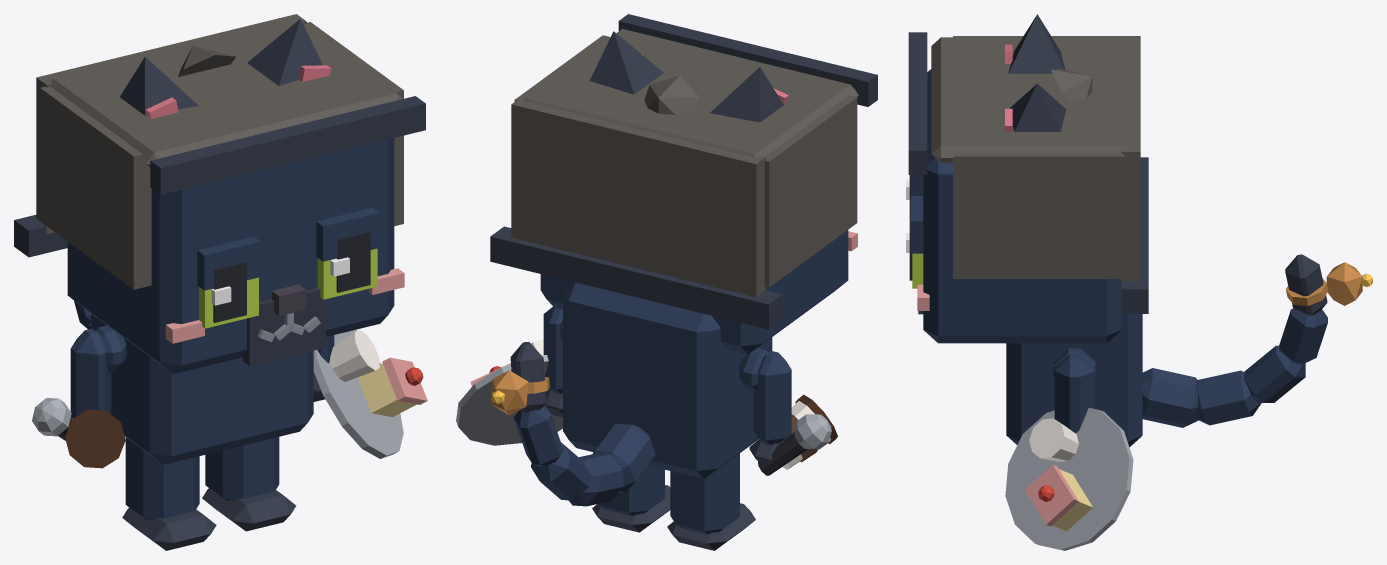
Rendered from CatCafe_Cat_Rogue_Work.glb.
The picture shows the model from 3 angles, left to right: view 1: azimuth 30°, elevation 25°; view 2: azimuth 150°, elevation 25°; view 3: azimuth 270°, elevation 25°; orthographic projection. The views are drawn at different scales.
Visible parts, largest first — view 1: CatCafe_Cat_Rogue_Work_Prop, CatCafe_Cat_Rogue_Work_Head, CatCafe_Cat_Rogue_Work_Body, CatCafe_Cat_Rogue_Work_Held_Waiter, CatCafe_Cat_Rogue_Work_LegB2, CatCafe_Cat_Rogue_Work_LegB1, CatCafe_Cat_Rogue_Work_Eye1, CatCafe_Cat_Rogue_Work_Eye2, CatCafe_Cat_Rogue_Work_LegF2, CatCafe_Cat_Rogue_Work_EarL, CatCafe_Cat_Rogue_Work_Held_Barista, CatCafe_Cat_Rogue_Work_EarR (+1 smaller); view 2: CatCafe_Cat_Rogue_Work_Prop, CatCafe_Cat_Rogue_Work_Body, CatCafe_Cat_Rogue_Work_Tail, CatCafe_Cat_Rogue_Work_Head, CatCafe_Cat_Rogue_Work_LegB2, CatCafe_Cat_Rogue_Work_LegF2, CatCafe_Cat_Rogue_Work_Held_Waiter, CatCafe_Cat_Rogue_Work_LegB1, CatCafe_Cat_Rogue_Work_EarL, CatCafe_Cat_Rogue_Work_EarR, CatCafe_Cat_Rogue_Work_Held_Entertainer, CatCafe_Cat_Rogue_Work_LegF1 (+2 smaller); view 3: CatCafe_Cat_Rogue_Work_Prop, CatCafe_Cat_Rogue_Work_Head, CatCafe_Cat_Rogue_Work_Held_Waiter, CatCafe_Cat_Rogue_Work_Tail, CatCafe_Cat_Rogue_Work_Body, CatCafe_Cat_Rogue_Work_LegF1, CatCafe_Cat_Rogue_Work_EarR, CatCafe_Cat_Rogue_Work_EarL, CatCafe_Cat_Rogue_Work_Tail_Pouch, CatCafe_Cat_Rogue_Work_Eye1.
Part boxes in pixels (bbox=[...]): CatCafe_Cat_Rogue_Work_Prop: bbox=[14, 14, 425, 289]; CatCafe_Cat_Rogue_Work_Head: bbox=[67, 138, 404, 373]; CatCafe_Cat_Rogue_Work_Body: bbox=[91, 314, 313, 464]; CatCafe_Cat_Rogue_Work_Held_Waiter: bbox=[313, 329, 427, 458]; CatCafe_Cat_Rogue_Work_LegB2: bbox=[122, 437, 216, 550]; CatCafe_Cat_Rogue_Work_LegB1: bbox=[202, 437, 296, 531]; CatCafe_Cat_Rogue_Work_Eye1: bbox=[316, 207, 379, 299]; CatCafe_Cat_Rogue_Work_Eye2: bbox=[197, 236, 260, 328]; CatCafe_Cat_Rogue_Work_LegF2: bbox=[70, 328, 111, 418]; CatCafe_Cat_Rogue_Work_EarL: bbox=[247, 19, 331, 85]; CatCafe_Cat_Rogue_Work_Held_Barista: bbox=[65, 409, 125, 468]; CatCafe_Cat_Rogue_Work_EarR: bbox=[120, 56, 197, 118]; CatCafe_Cat_Rogue_Work_Prop: bbox=[490, 14, 877, 329]; CatCafe_Cat_Rogue_Work_Body: bbox=[560, 282, 772, 479]; CatCafe_Cat_Rogue_Work_Tail: bbox=[510, 342, 655, 506]; CatCafe_Cat_Rogue_Work_Head: bbox=[540, 230, 857, 354]; CatCafe_Cat_Rogue_Work_LegB2: bbox=[667, 453, 755, 550]; CatCafe_Cat_Rogue_Work_LegF2: bbox=[749, 351, 791, 461]; CatCafe_Cat_Rogue_Work_Held_Waiter: bbox=[456, 339, 562, 445]; CatCafe_Cat_Rogue_Work_LegB1: bbox=[592, 465, 670, 532]; CatCafe_Cat_Rogue_Work_EarL: bbox=[589, 31, 663, 94]; CatCafe_Cat_Rogue_Work_EarR: bbox=[710, 67, 788, 122]; CatCafe_Cat_Rogue_Work_Held_Entertainer: bbox=[758, 414, 831, 475]; CatCafe_Cat_Rogue_Work_LegF1: bbox=[543, 306, 562, 417]; CatCafe_Cat_Rogue_Work_Prop: bbox=[908, 32, 1148, 313]; CatCafe_Cat_Rogue_Work_Head: bbox=[917, 69, 1121, 343]; CatCafe_Cat_Rogue_Work_Held_Waiter: bbox=[1005, 408, 1133, 550]; CatCafe_Cat_Rogue_Work_Tail: bbox=[1142, 254, 1327, 427]; CatCafe_Cat_Rogue_Work_Body: bbox=[1006, 314, 1142, 447]; CatCafe_Cat_Rogue_Work_LegF1: bbox=[1054, 354, 1094, 433]; CatCafe_Cat_Rogue_Work_EarR: bbox=[1005, 14, 1065, 73]; CatCafe_Cat_Rogue_Work_EarL: bbox=[1005, 83, 1066, 131]; CatCafe_Cat_Rogue_Work_Tail_Pouch: bbox=[1286, 262, 1372, 305]; CatCafe_Cat_Rogue_Work_Eye1: bbox=[906, 196, 923, 288].
Bounding box in the file's own units: 1.53 × 1.93 × 1.79.
Materials: 1 (1 with a texture image).
